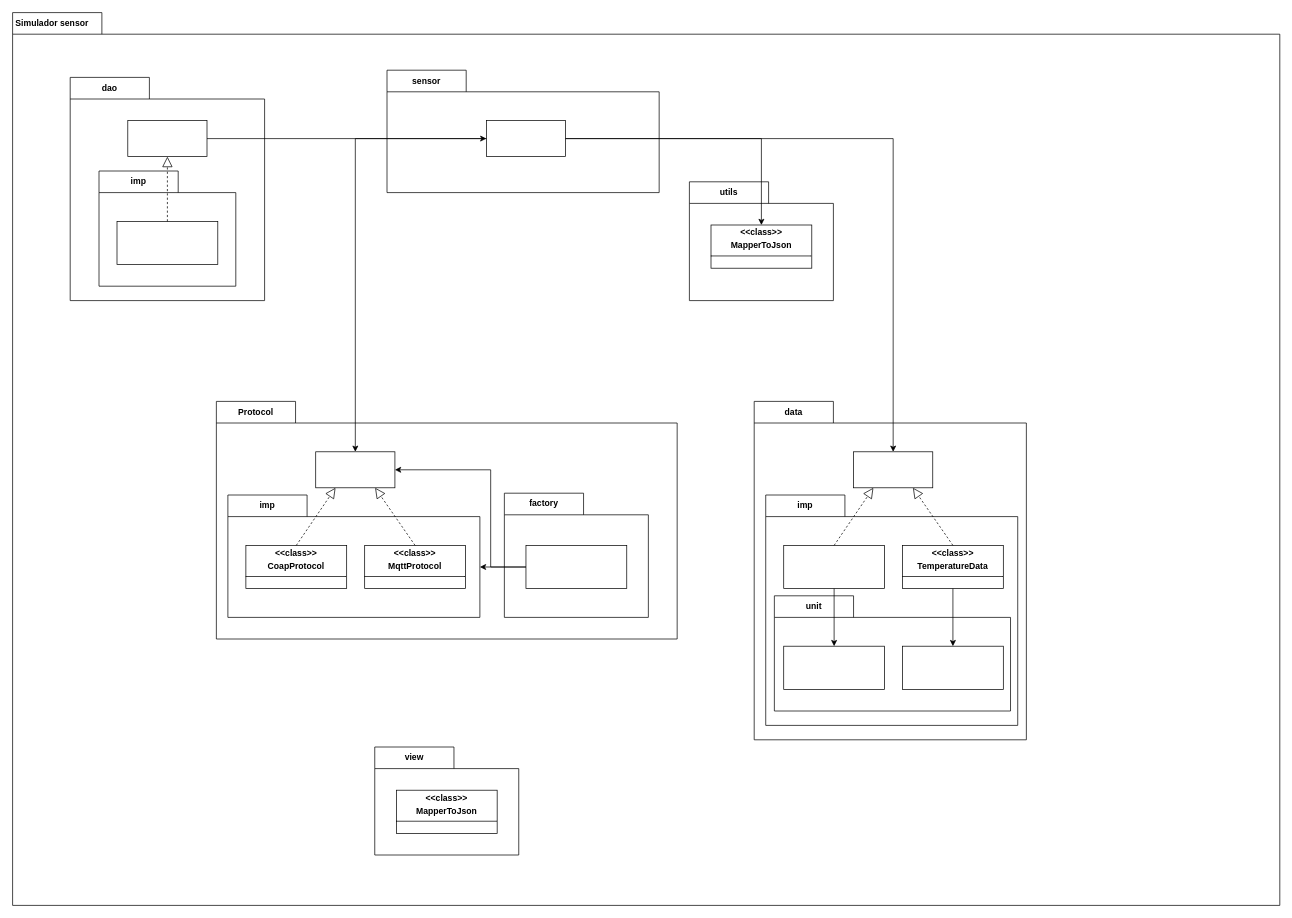
This 1292x918 diagram has some shape labels left out. Here are the shapes that lost their labels. From the top down, the centre of each, then its label:
At [167,138]: "«interface» SesnsorDAO".
At [526,138]: "«class» Sensor".
At [167,243]: "<<class>> SensorDAOImpl".
At [355,469]: "«interface» Protocol".
At [893,469]: "«interface» DataSen".
At [576,567]: "<<class>> ProtocolFactory".
At [834,567]: "<<class>> HumidityData".
At [834,667]: "<<enum>> HumidityUnit".
At [952,667]: "<<enum>> TemperatureUnit".
